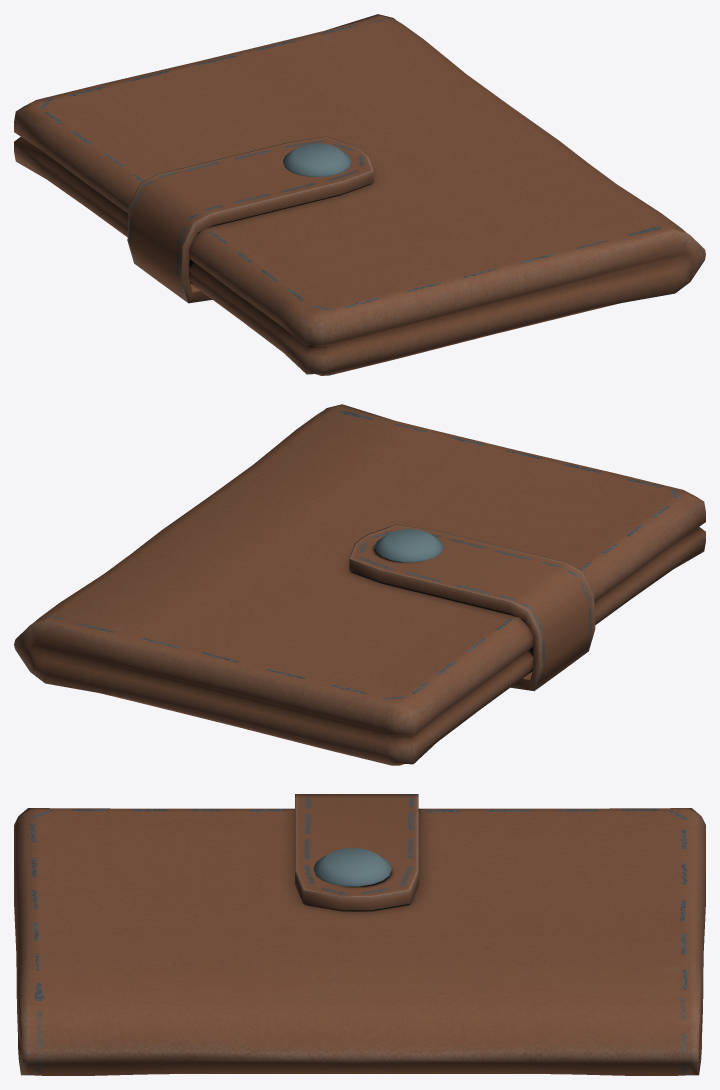
File: wallet - Copy.fbx
The picture shows the model from 3 angles, top to bottom: view 1: azimuth 30°, elevation 25°; view 2: azimuth 150°, elevation 25°; view 3: azimuth 270°, elevation 25°; orthographic projection. The views are drawn at different scales.
Visible parts, largest first — view 1: wallet, button; view 2: wallet, button; view 3: wallet, button.
Boxes of the visible parts, bbox=[...] form: wallet: bbox=[14, 14, 705, 375]; button: bbox=[283, 143, 351, 176]; wallet: bbox=[14, 404, 705, 765]; button: bbox=[375, 529, 443, 562]; wallet: bbox=[14, 794, 705, 1075]; button: bbox=[313, 848, 391, 886].
Size of the model in its own units: 0.2642 by 0.0595 by 0.3408.
Materials: 2 (1 with a texture image).
